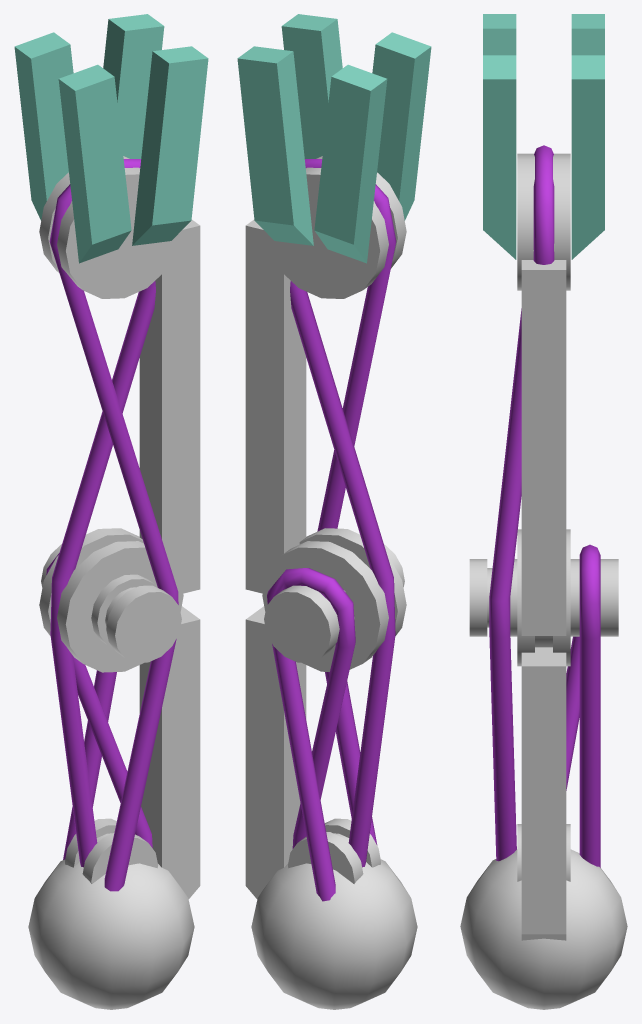
The model's file is Pulleys.glb.
The picture shows the model from 3 angles, left to right: view 1: azimuth 30°, elevation 25°; view 2: azimuth 150°, elevation 25°; view 3: azimuth 270°, elevation 25°; orthographic projection.
Parts seen in each view (by area): view 1: Cube.004, Cube.002, Sphere, Cube.001, Cube, Circle.002, Circle.003, Circle.001, Cube.003, Circle.005; view 2: Cube.004, Sphere, Cube.001, Cube.002, Cube, Cube.003, Circle.002, Circle.003, Circle.004, Circle.005; view 3: Cube.001, Sphere, Cube.004, Cube, Cube.002, Cube.003, Circle.003, Circle.004, Circle.001, Circle.002, Circle.005.
Part boxes in pixels (x1=…): Cube.004: x1=14, y1=14, x2=208, y2=263; Cube.002: x1=49, y1=159, x2=178, y2=891; Sphere: x1=28, y1=859, x2=194, y2=1009; Cube.001: x1=139, y1=219, x2=200, y2=593; Cube: x1=139, y1=606, x2=200, y2=898; Circle.002: x1=39, y1=528, x2=183, y2=672; Circle.003: x1=39, y1=156, x2=182, y2=298; Circle.001: x1=91, y1=574, x2=181, y2=662; Cube.003: x1=46, y1=553, x2=152, y2=859; Circle.005: x1=65, y1=818, x2=157, y2=883; Cube.004: x1=237, y1=14, x2=431, y2=263; Sphere: x1=251, y1=859, x2=417, y2=1009; Cube.001: x1=245, y1=219, x2=306, y2=593; Cube.002: x1=290, y1=159, x2=396, y2=867; Cube: x1=245, y1=606, x2=306, y2=898; Cube.003: x1=267, y1=568, x2=355, y2=901; Circle.002: x1=262, y1=528, x2=406, y2=671; Circle.003: x1=263, y1=156, x2=406, y2=298; Circle.004: x1=264, y1=585, x2=354, y2=662; Circle.005: x1=288, y1=818, x2=380, y2=883; Cube.001: x1=521, y1=260, x2=566, y2=635; Sphere: x1=460, y1=849, x2=627, y2=1009; Cube.004: x1=483, y1=14, x2=604, y2=259; Cube: x1=521, y1=647, x2=566, y2=940; Cube.002: x1=489, y1=145, x2=554, y2=861; Cube.003: x1=566, y1=544, x2=600, y2=867; Circle.003: x1=517, y1=153, x2=570, y2=290; Circle.004: x1=570, y1=559, x2=618, y2=636; Circle.001: x1=469, y1=559, x2=517, y2=636; Circle.002: x1=517, y1=529, x2=570, y2=666; Circle.005: x1=517, y1=824, x2=570, y2=881.
Bounding box in the file's own units: 0.1511 × 0.9205 × 0.1453.
